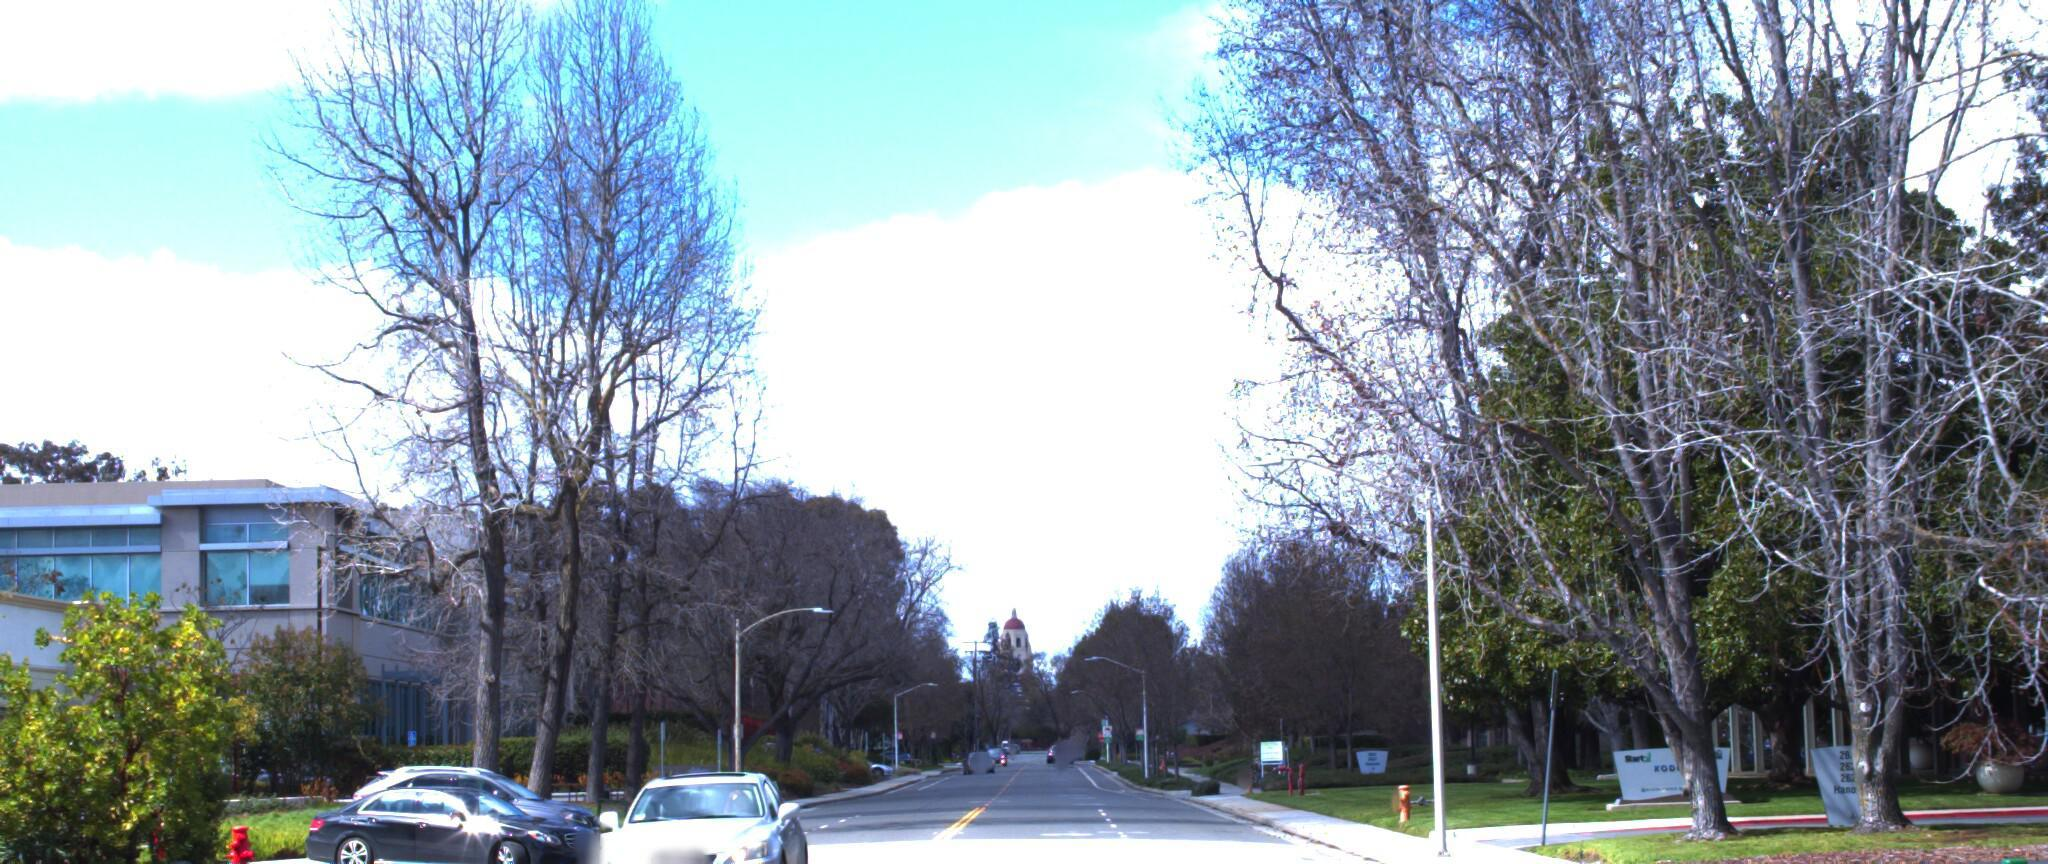car: (302, 777, 620, 864), (336, 756, 606, 857), (569, 770, 810, 864)
